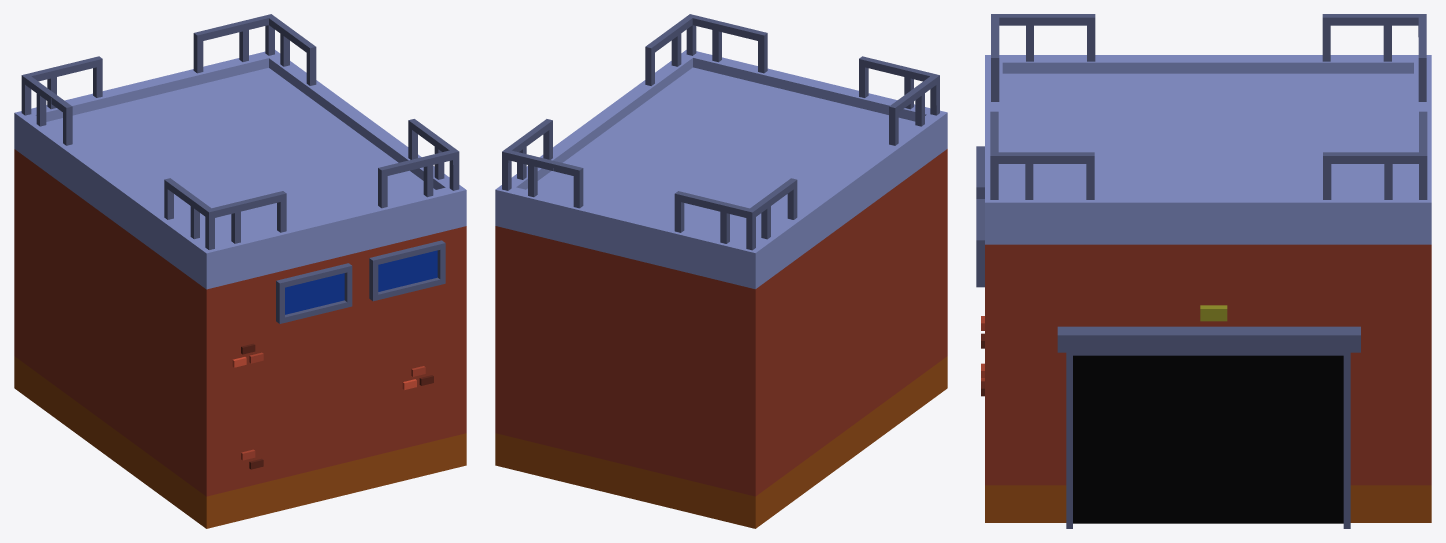
Rendered from Factory_part2.FBX.
3 views of the same model, side by side, from view 1: azimuth 30°, elevation 25°; view 2: azimuth 150°, elevation 25°; view 3: azimuth 270°, elevation 25° (orthographic). The views are drawn at different scales.
Parts seen in each view (by area): view 1: Factory_part2; view 2: Factory_part2; view 3: Factory_part2.
Boxes of the visible parts, x1=… form: Factory_part2: x1=14, y1=14, x2=466, y2=528; Factory_part2: x1=495, y1=14, x2=947, y2=528; Factory_part2: x1=976, y1=14, x2=1431, y2=528.
Size of the model in its own units: 89.9 by 97.78 by 111.
